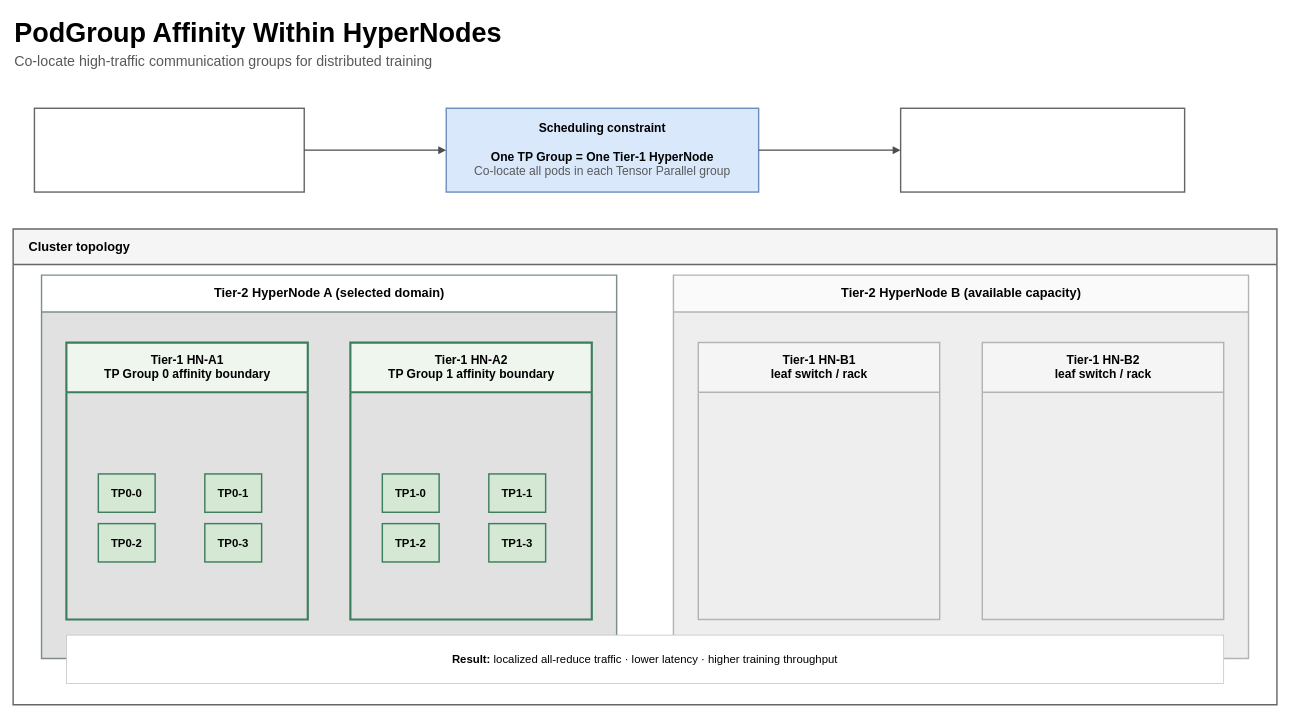
Image size: 1289x717. Some labels were removed from this diagram. Here are the shapes that lost their labels. From the top down, the centre of each, then its label:
At (x=169, y=149): "Distributed Training Job TP Group 0 | TP Group 1".
At (x=1042, y=149): "Volcano Scheduler HyperNode-aware placement".
